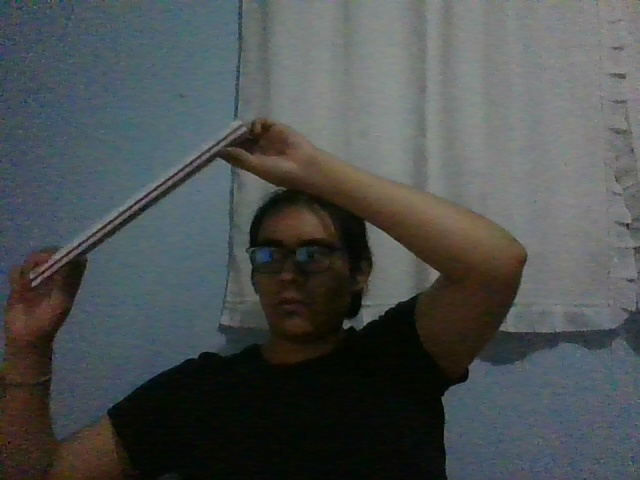regla: (29, 121, 248, 287)
